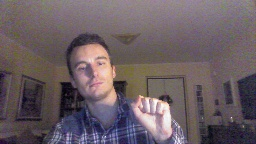Pugno: (127, 93, 173, 136)
